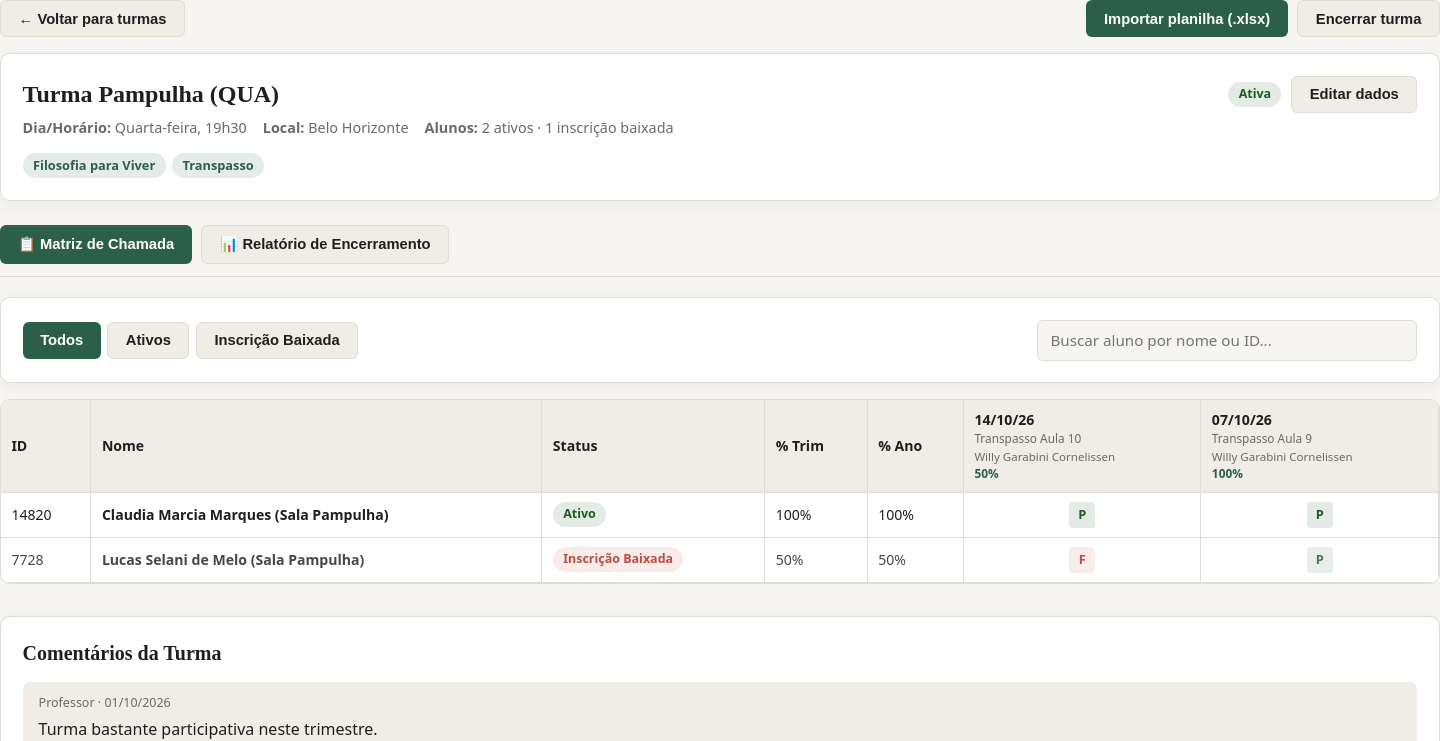
Test: components/TurmaDetailView › allows switching between Matriz and Relatório de Encerramento tabs (ENCERR-03)
This screenshot has width=1440, height=741.
Expected: the tab "📋 Matriz de Chamada" is shown, [0,225,192,264]
// Switch to report
Click the tab "📊 Relatório de Encerramento": [325, 244] box [201,225,449,264]
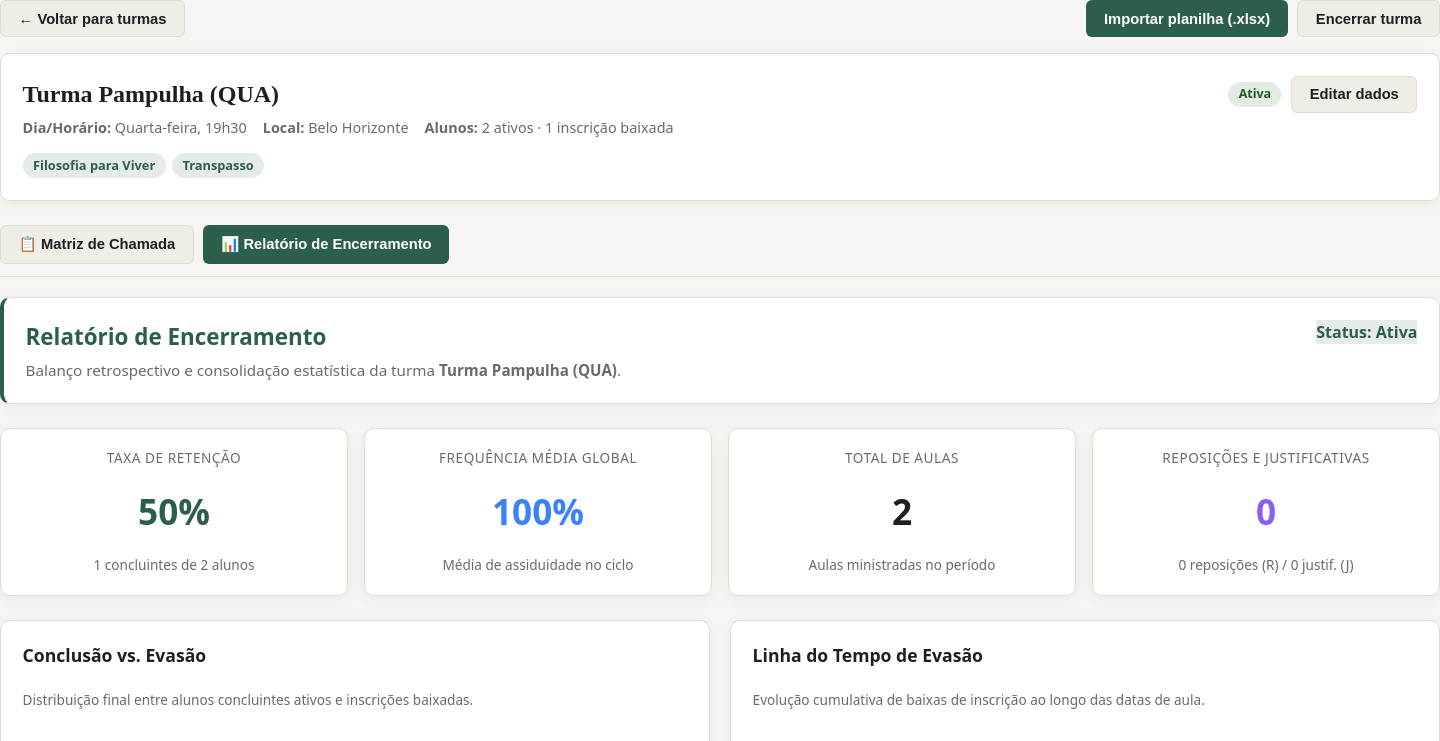
Now the heading "Relatório de Encerramento" is shown, box [26,320,326,352]
Now the text "Taxa de Retenção" is shown, box [107,448,241,467]
// Switch back to matrix
Click the tab "📋 Matriz de Chamada": [97, 244] box [0,225,194,264]
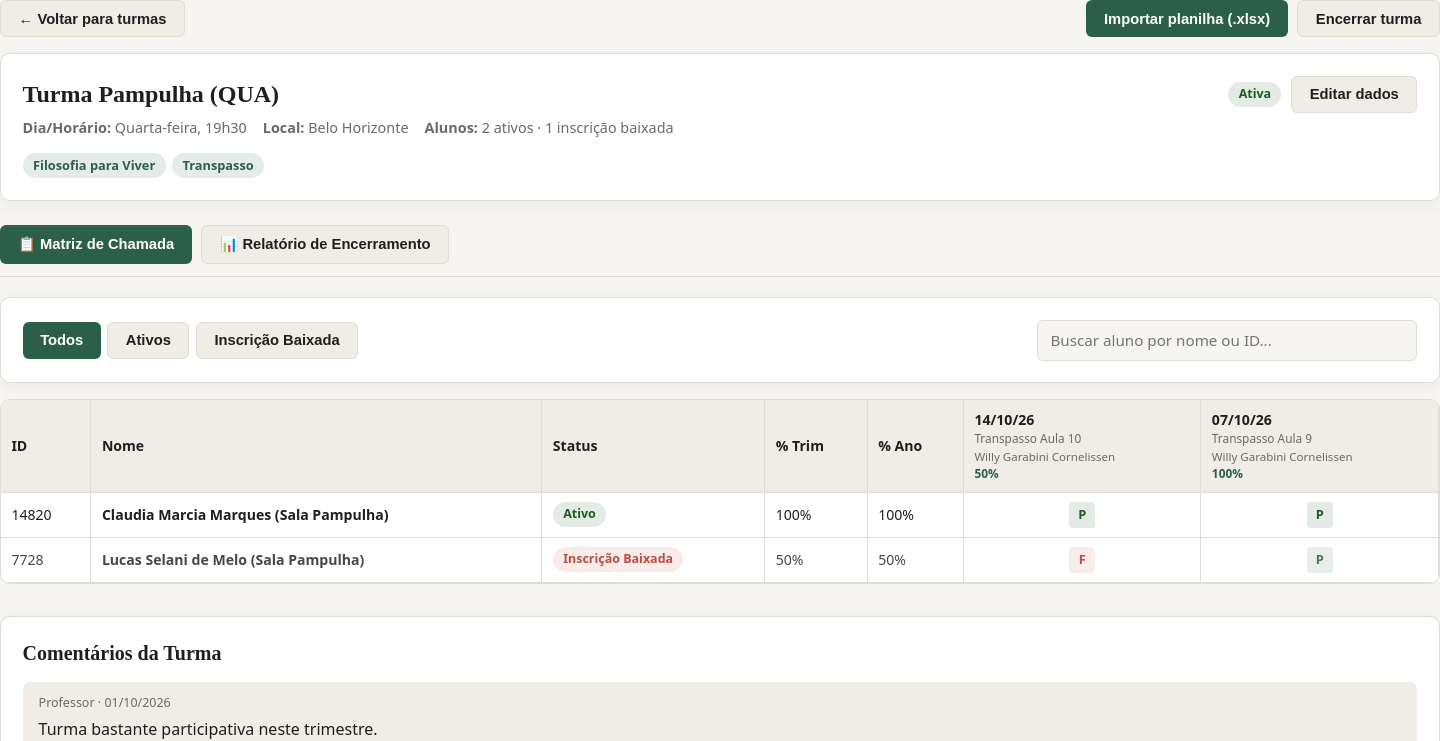
Now the table named "Matriz de chamada da turma" is shown, box [1,400,1439,583]
